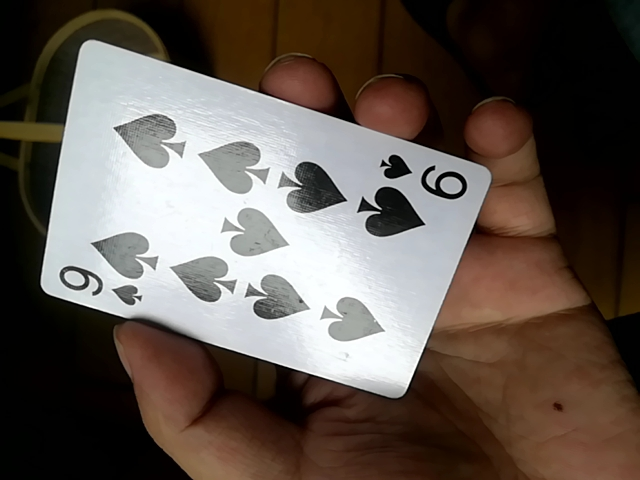ht 9: (41, 40, 497, 405)
